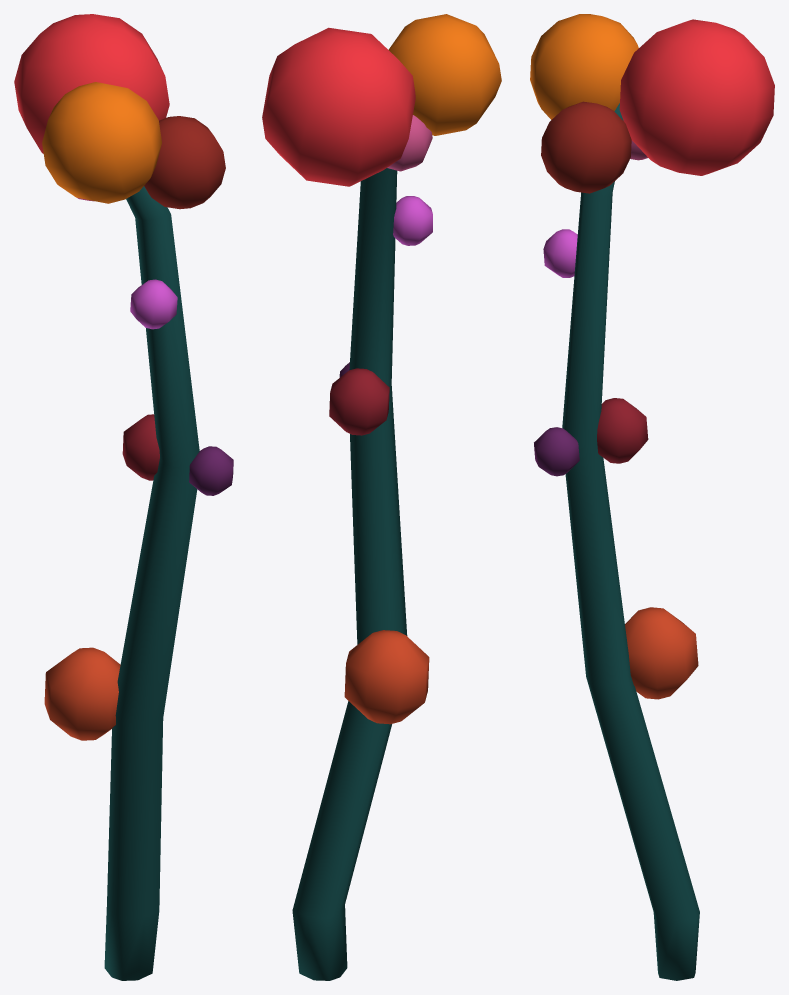
Rendered from alienPlantHot.glb.
3 renders of one model, left to right at view 1: azimuth 30°, elevation 25°; view 2: azimuth 150°, elevation 25°; view 3: azimuth 270°, elevation 25°, orthographic.
Visible parts, largest first — view 1: AlienPlant.010; view 2: AlienPlant.010; view 3: AlienPlant.010.
Part boxes in pixels (<box>): AlienPlant.010: <box>14,14,233,980</box>; AlienPlant.010: <box>262,14,501,980</box>; AlienPlant.010: <box>530,14,774,980</box>.
Bounding box in the file's own units: 0.183 × 1 × 0.2367.
1 material, 1 textured.
